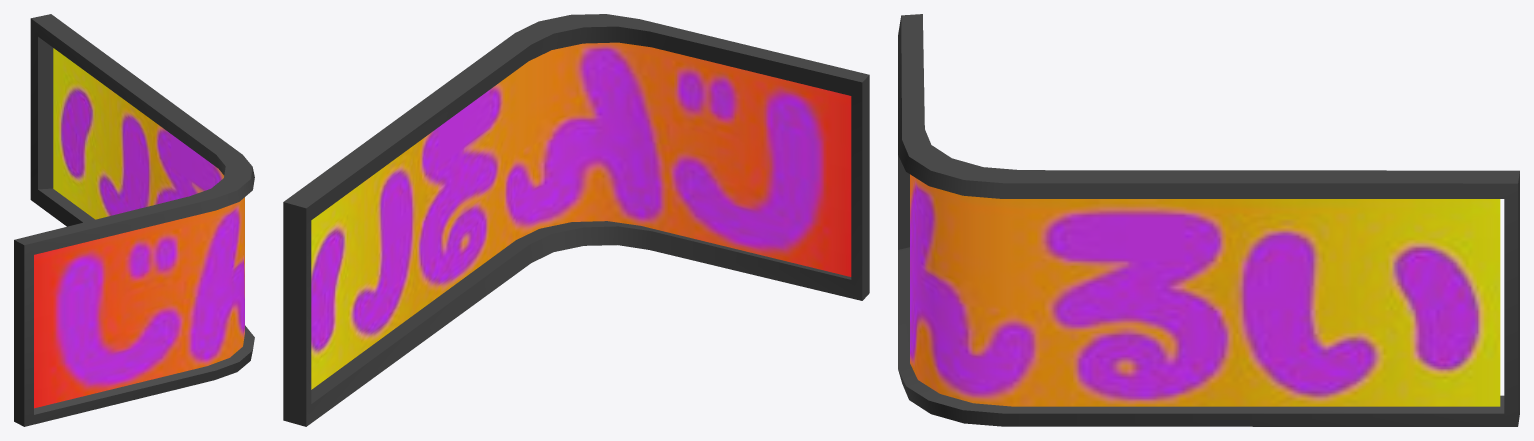
Rendered from Sign_Corner_2.glb.
3 renders of one model, left to right at view 1: azimuth 30°, elevation 25°; view 2: azimuth 150°, elevation 25°; view 3: azimuth 270°, elevation 25°, orthographic. The views are drawn at different scales.
Parts seen in each view (by area): view 1: Sign_Corner_2; view 2: Sign_Corner_2; view 3: Sign_Corner_2.
Part boxes in pixels (<box>): Sign_Corner_2: <box>14,14,254,426</box>; Sign_Corner_2: <box>283,14,869,426</box>; Sign_Corner_2: <box>898,14,1519,426</box>.
Size of the model in its own units: 1.09 by 0.7269 by 1.68.
Materials: 2 (1 with a texture image).
